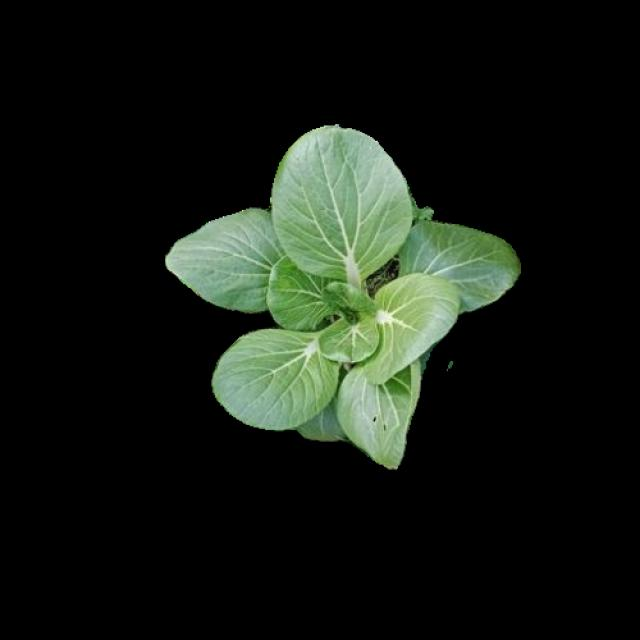healthy: (177, 143, 517, 466)
not-mature: (172, 130, 520, 468)
